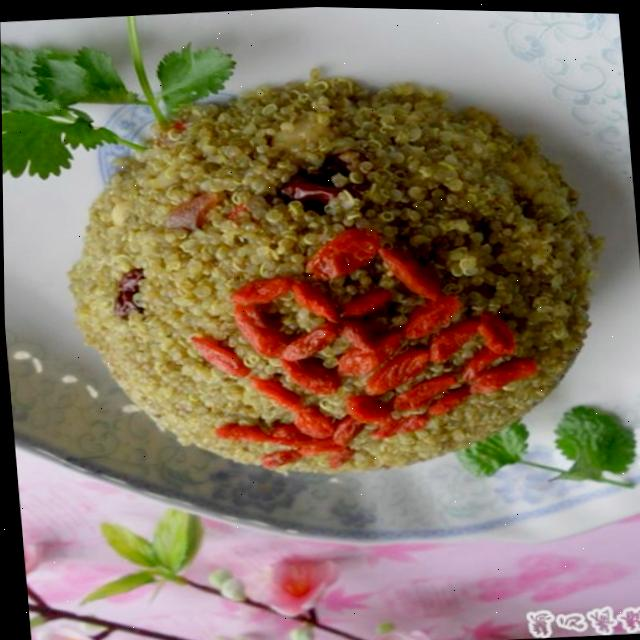米饭主食: (22, 36, 637, 574)
